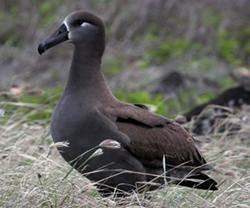001.Black_footed_Albatross: (38, 9, 218, 198)
